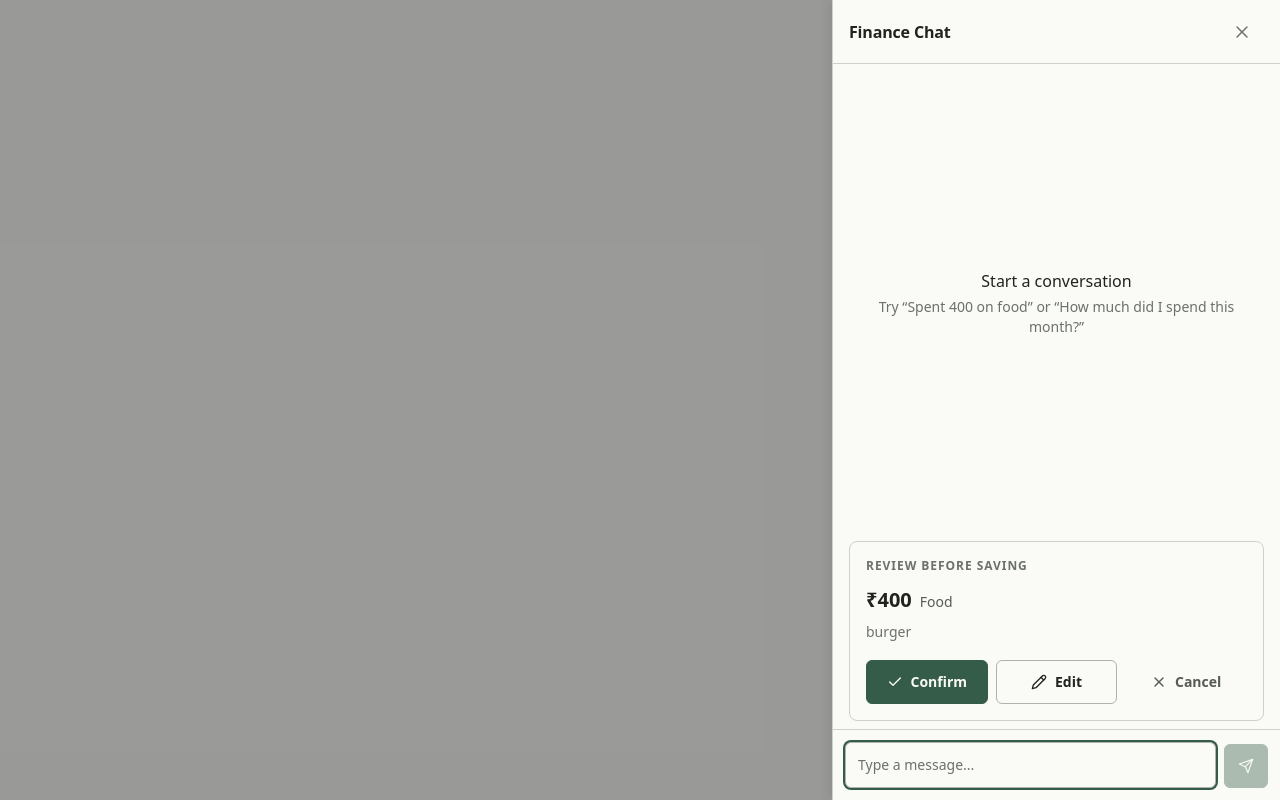
Test case: ChatDrawer integration › opens confirmation edit modal and saves without chat edit bubbles
Click the button "Edit" at (1057, 682), box [996,660,1117,704]
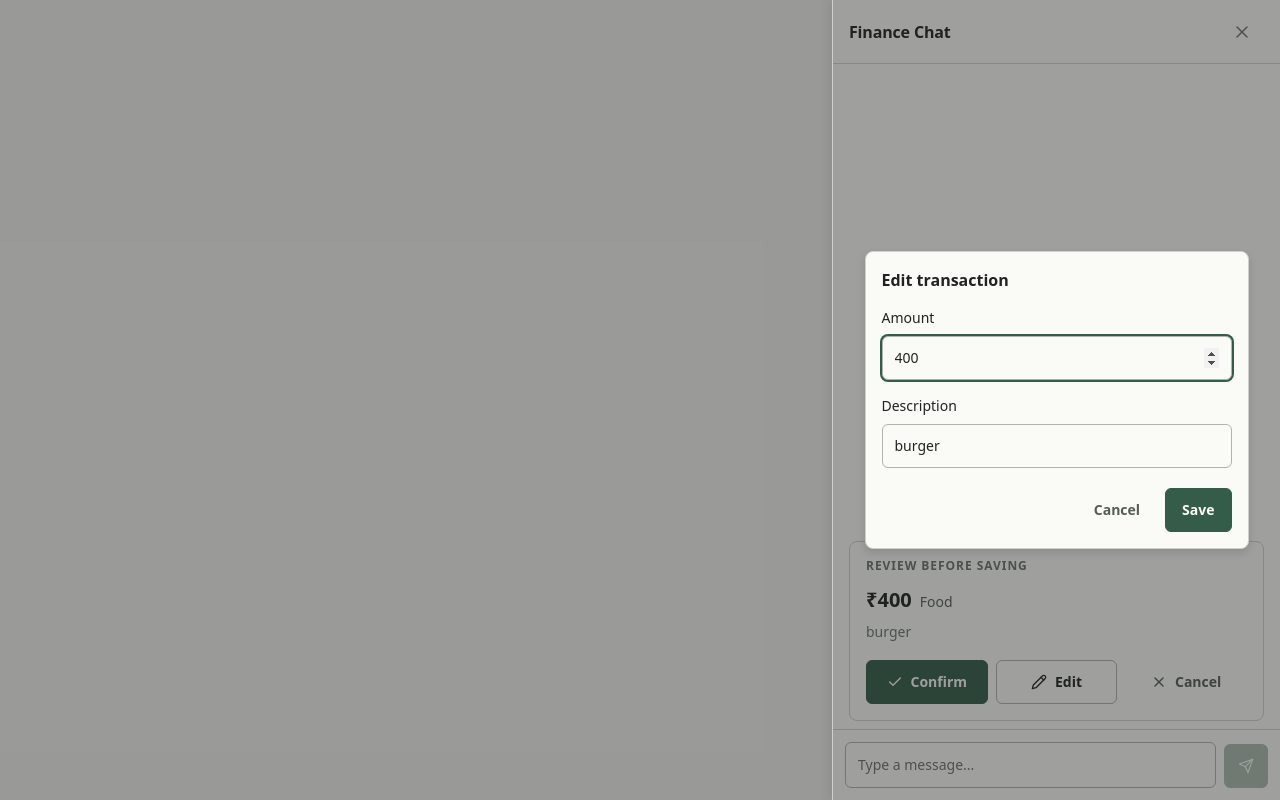
expect the heading "Edit transaction" is shown: met, box [882,269,1009,291]
expect the number field labelled "Amount" is shown: met
expect the field labelled "Description" is shown: met, box [882,424,1232,468]
Replace the text in the number field labelled "Amount" with "300" at (1056, 358), box [882,336,1232,380]
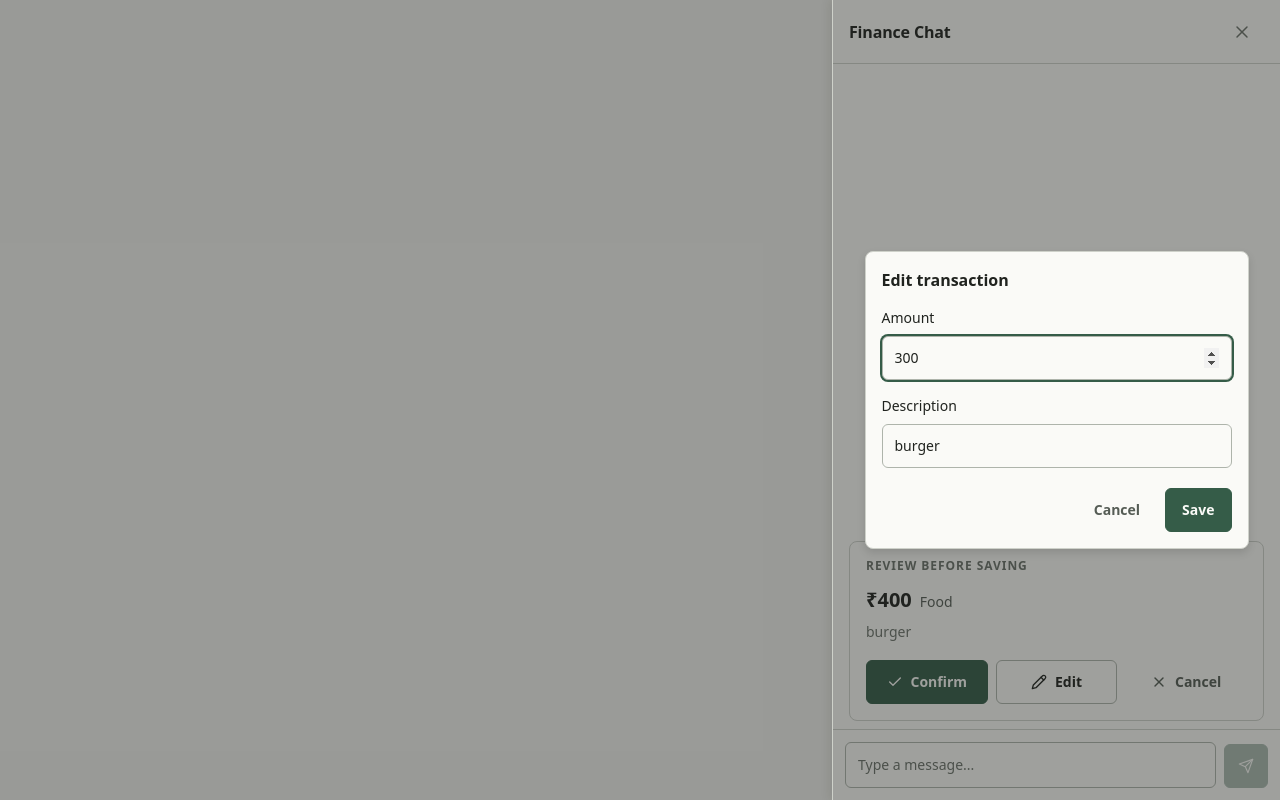
Replace the text in the field labelled "Description" with "noodles" at (1056, 446), box [882,424,1232,468]
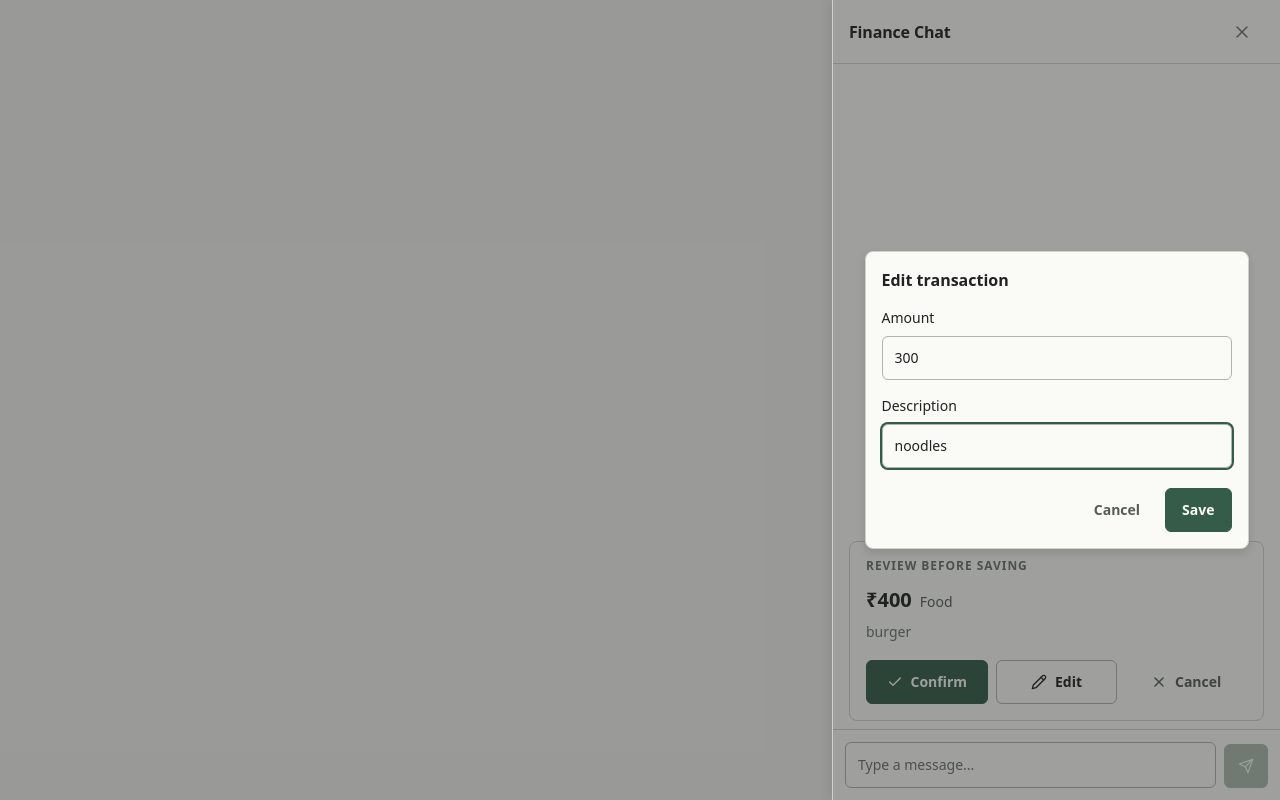
Click the button "Save" at (1198, 510), box [1165,488,1232,532]
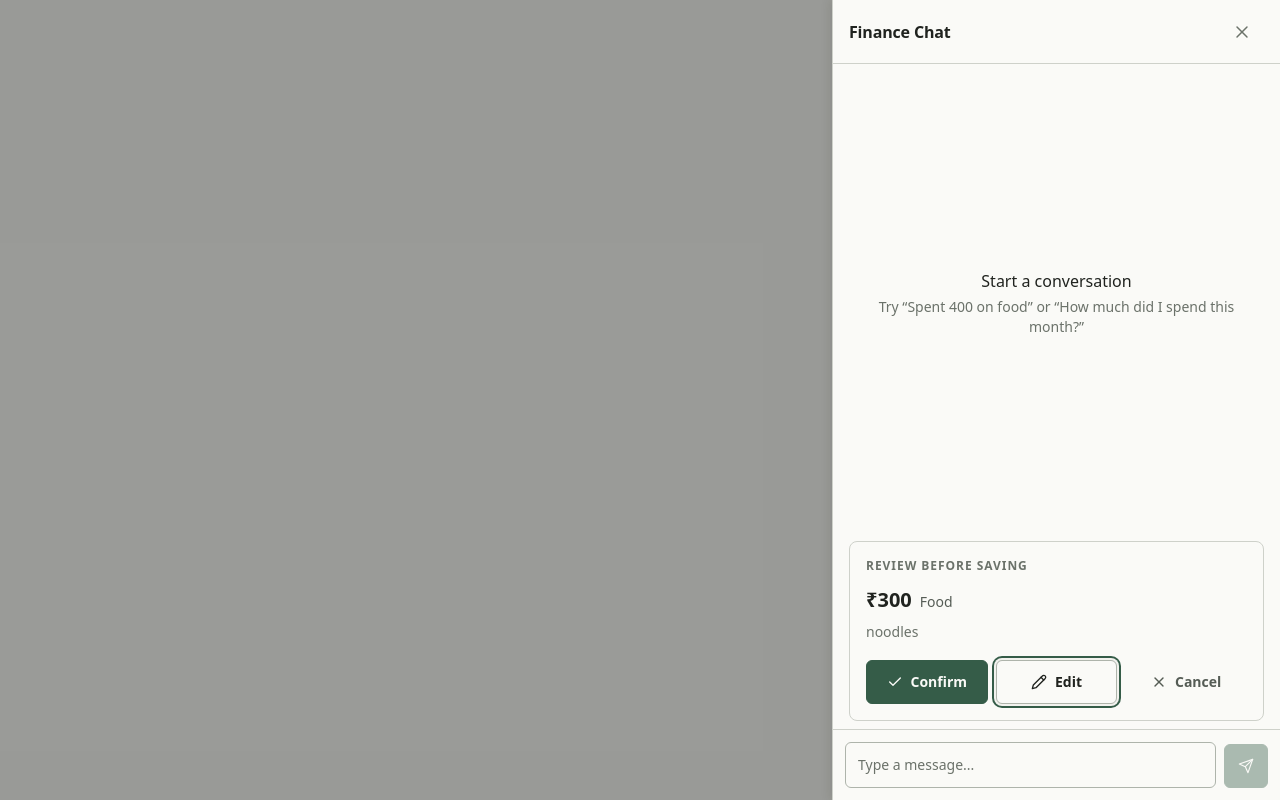
expect the heading "Edit transaction" is gone: met
